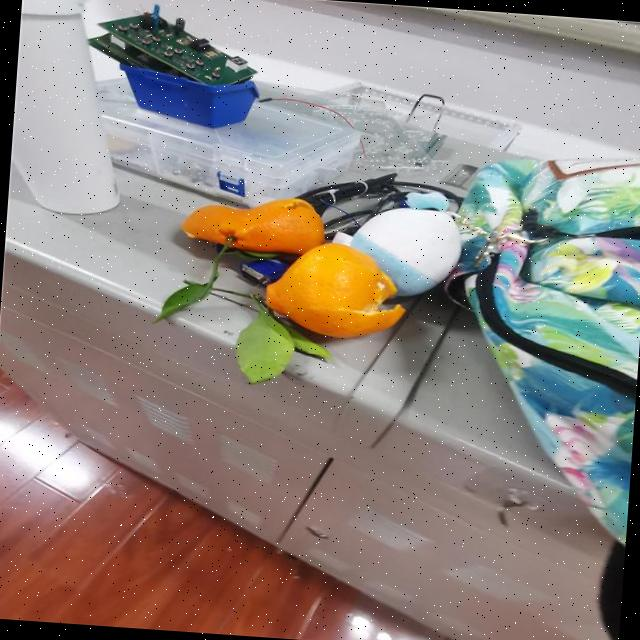orange-peel: (261, 236, 409, 343), (178, 188, 328, 257)
